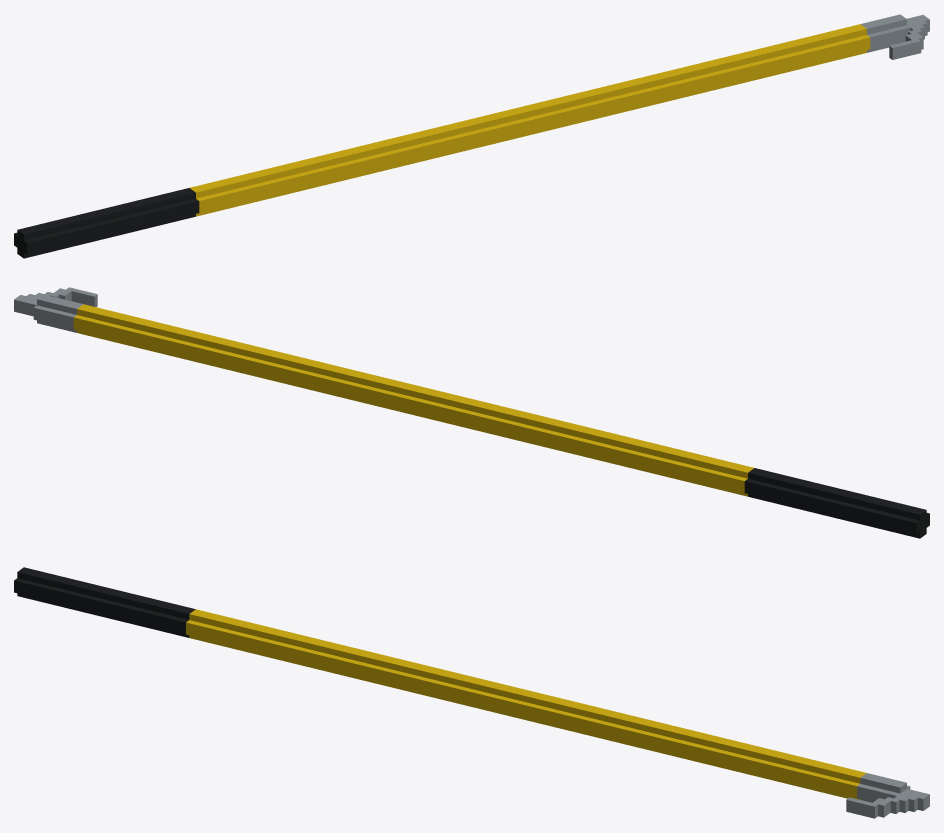
File: pike_pole.glb
3 views of the same model, one above another, from view 1: azimuth 30°, elevation 25°; view 2: azimuth 150°, elevation 25°; view 3: azimuth 330°, elevation 25° (orthographic).
Visible parts, largest first — view 1: pike_pole:compound; view 2: pike_pole:compound; view 3: pike_pole:compound.
Part boxes in pixels (box(x1,y1,x2,y2)): pike_pole:compound: box(14, 14, 929, 258); pike_pole:compound: box(14, 287, 929, 538); pike_pole:compound: box(14, 567, 929, 818).
Bounding box in the file's own units: 1.58 × 0.04 × 0.09.
